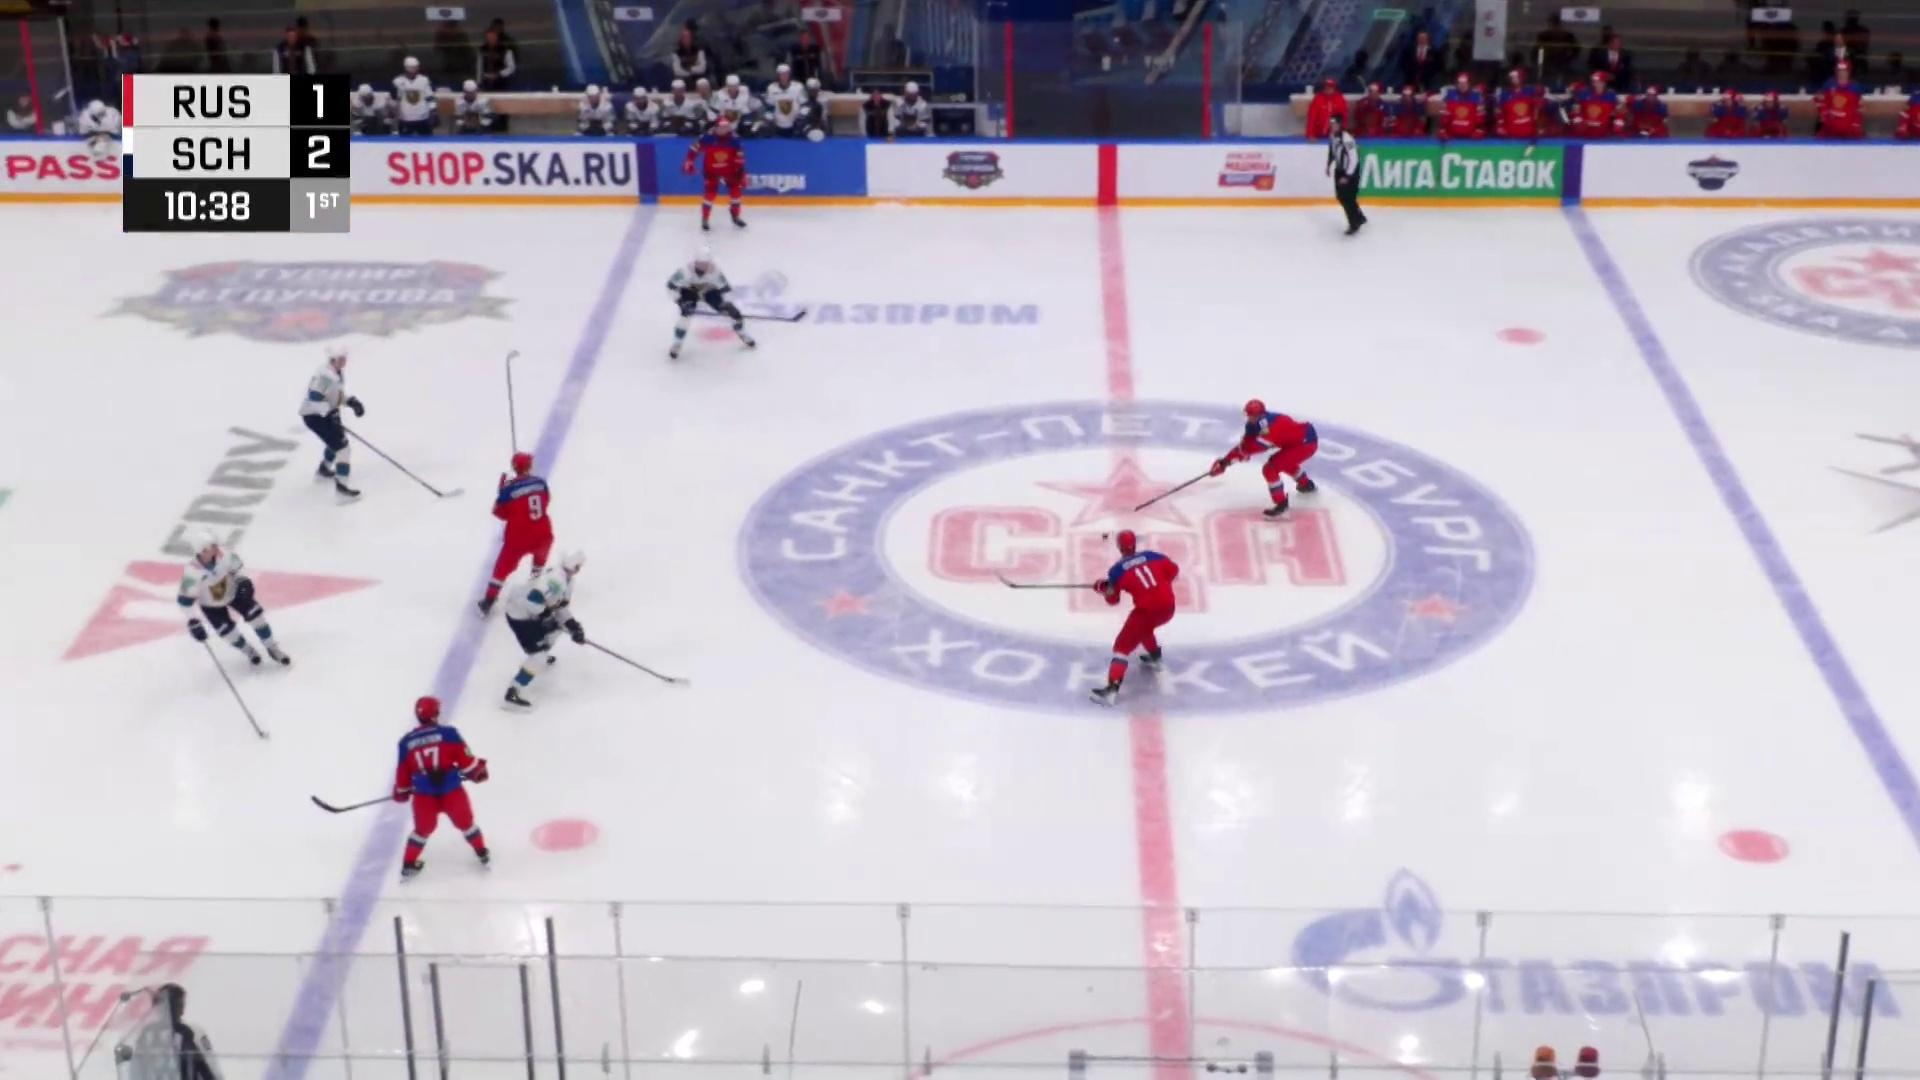ball: (1102, 533, 1108, 541)
